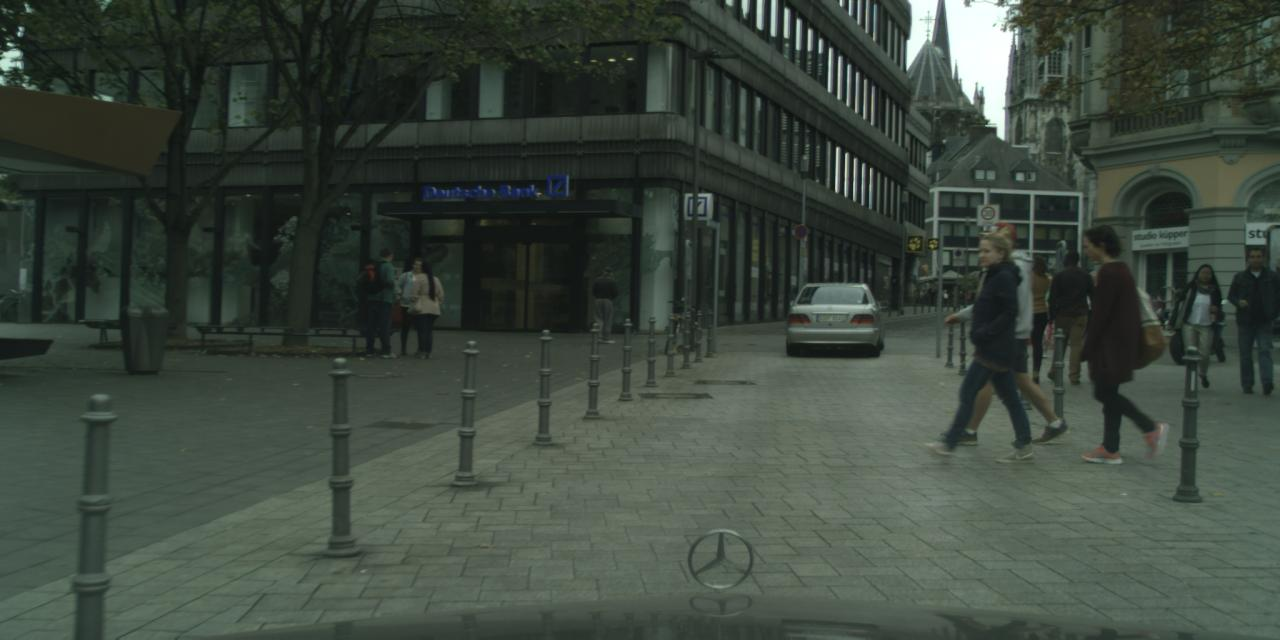ped: (1067, 222, 1164, 460), (938, 231, 1032, 460), (960, 222, 1050, 442), (1227, 245, 1279, 392), (1040, 248, 1094, 382), (1006, 254, 1058, 381), (1176, 263, 1226, 386), (359, 247, 404, 357), (395, 257, 435, 355), (406, 260, 444, 356), (1028, 267, 1064, 357), (1074, 270, 1106, 350), (590, 265, 622, 343), (927, 282, 937, 306), (941, 289, 948, 307), (950, 291, 956, 307), (965, 288, 971, 304), (957, 290, 962, 306)
